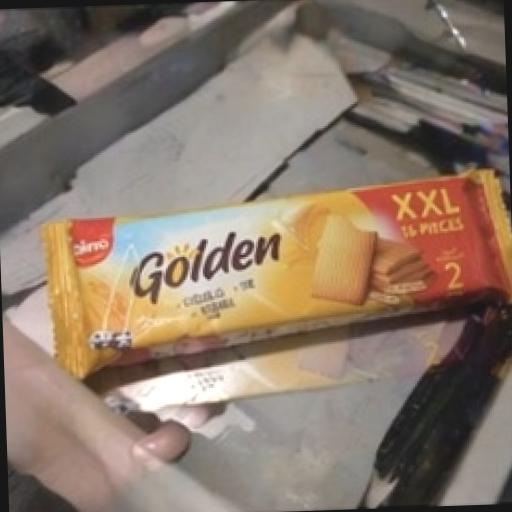golden: (24, 131, 512, 406)
